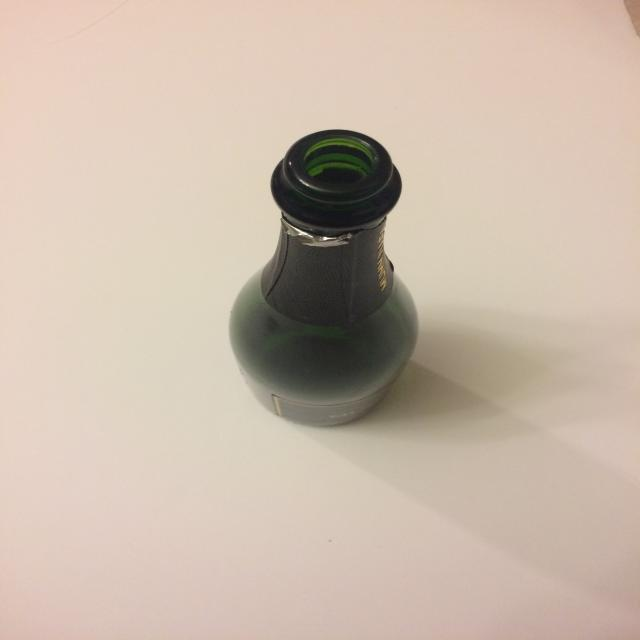glass: (230, 127, 420, 443)
